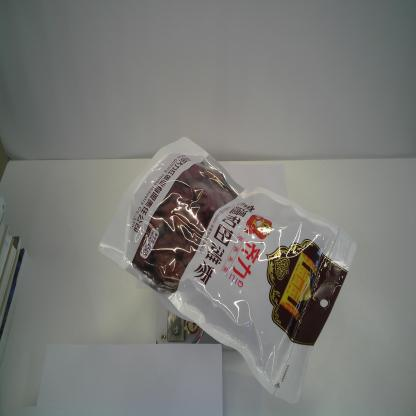Dried Food: (90, 134, 358, 404)
